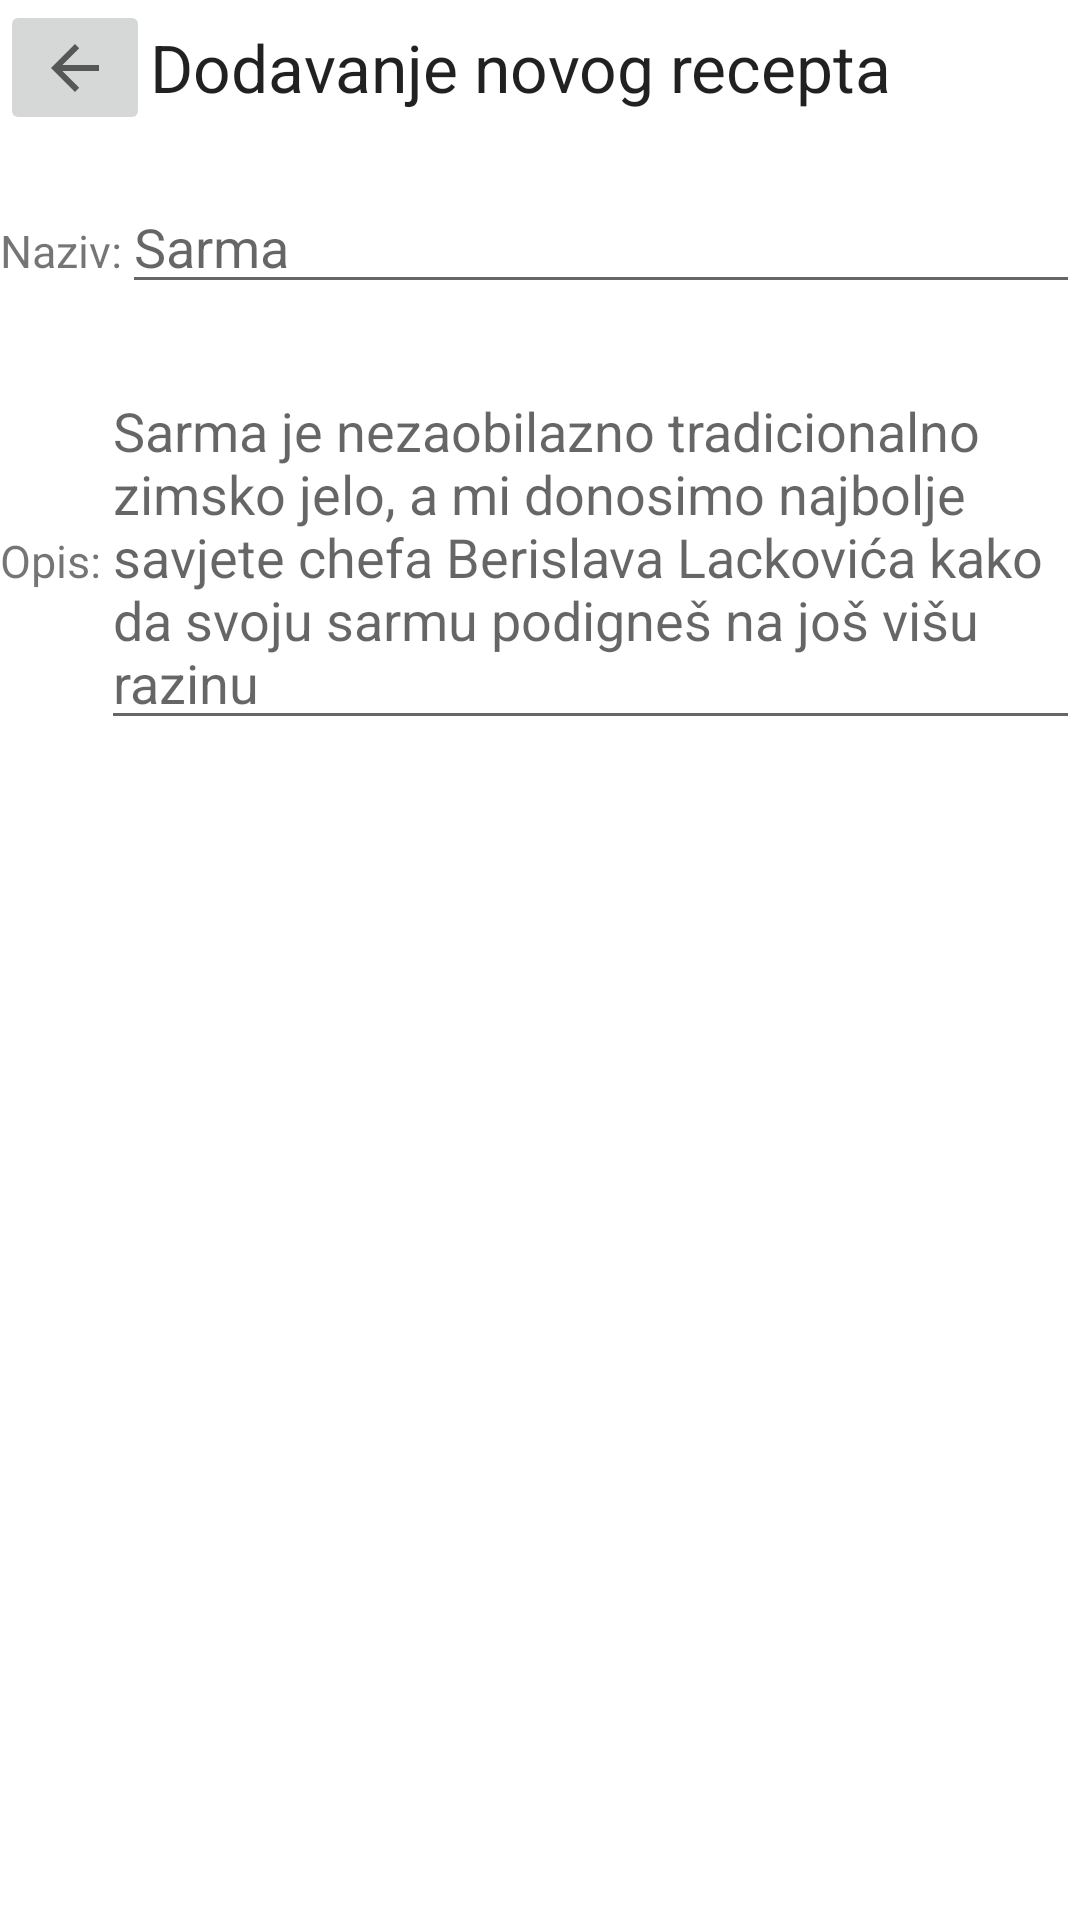

Named icons in this screenshot (1080px x 1920px) and their bounding boxes, box=[x1, y1, x2, y2]:
vracanje na fragment recept: box=[12, 18, 138, 117]
